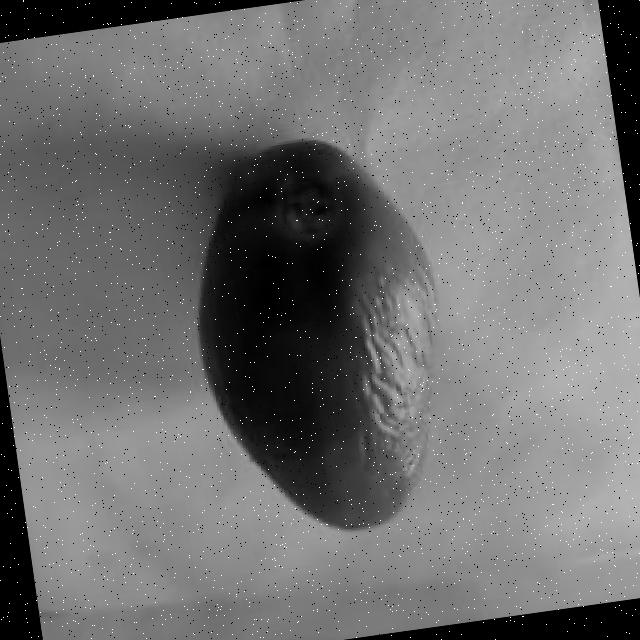Ripe: (169, 119, 474, 552)
